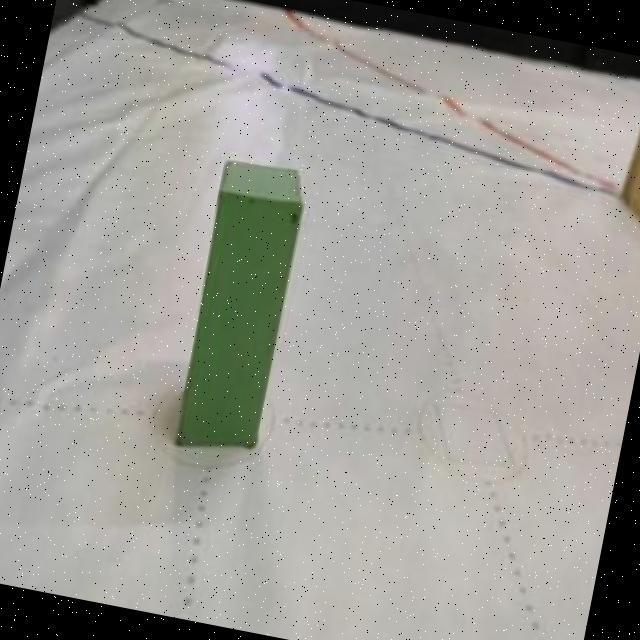greenbox: (164, 151, 313, 463)
